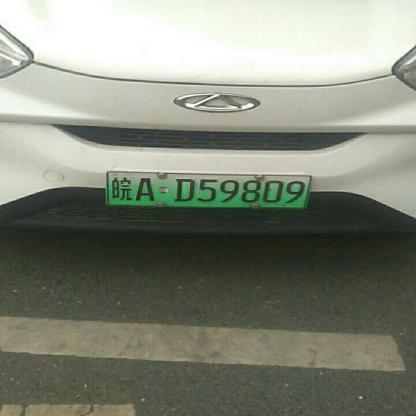lp: (107, 172, 308, 207)
